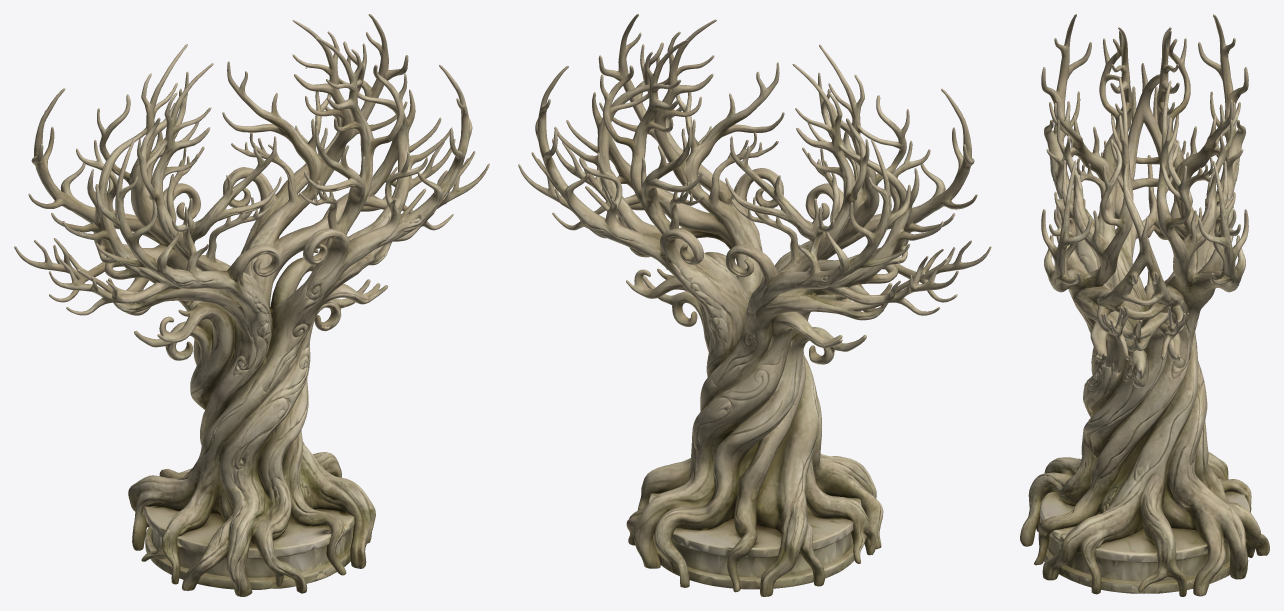
Rendered from world_tree_dead.glb.
The picture shows the model from 3 angles, left to right: view 1: azimuth 30°, elevation 25°; view 2: azimuth 150°, elevation 25°; view 3: azimuth 270°, elevation 25°; orthographic projection.
Parts seen in each view (by area): view 1: tripo_node_44c86c70-e3fc-4196-a986-76cbd3a3be80; view 2: tripo_node_44c86c70-e3fc-4196-a986-76cbd3a3be80; view 3: tripo_node_44c86c70-e3fc-4196-a986-76cbd3a3be80.
Boxes of the visible parts, x1=… form: tripo_node_44c86c70-e3fc-4196-a986-76cbd3a3be80: x1=14, y1=14, x2=489, y2=596; tripo_node_44c86c70-e3fc-4196-a986-76cbd3a3be80: x1=518, y1=14, x2=991, y2=596; tripo_node_44c86c70-e3fc-4196-a986-76cbd3a3be80: x1=1020, y1=14, x2=1269, y2=596.
Size of the model in its own units: 0.8952 by 0.9779 by 0.4454.
Materials: 1 (1 with a texture image).
